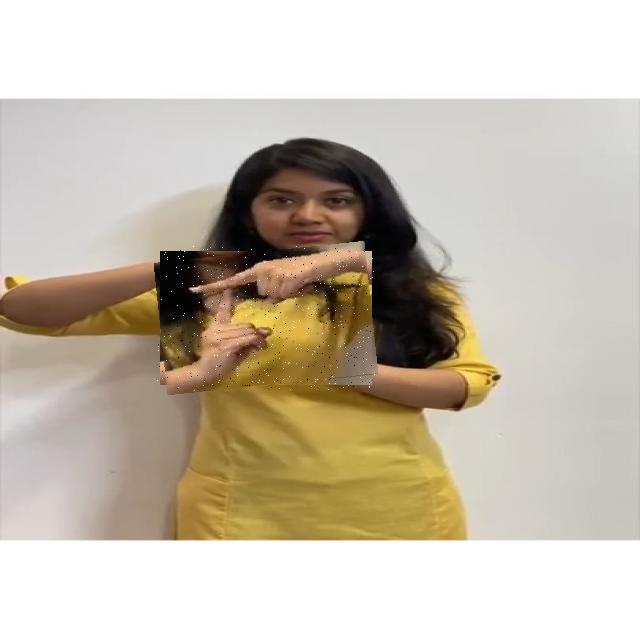T: (157, 246, 375, 391)
